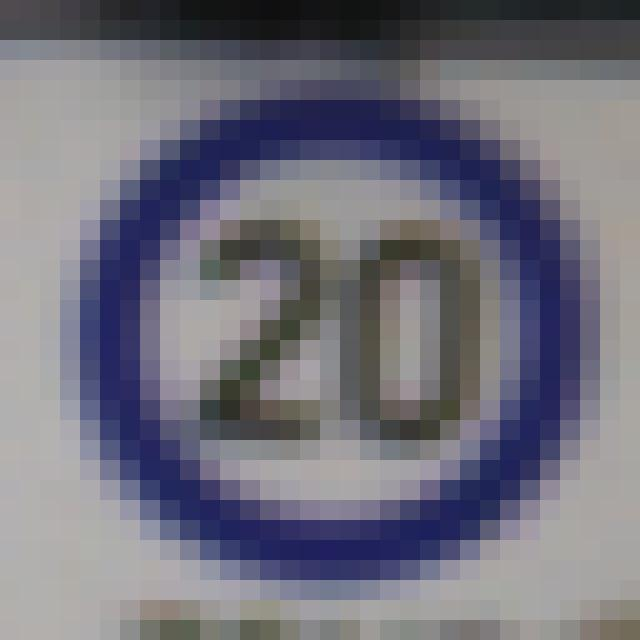SPEED LIMIT 20: (56, 88, 594, 578)
